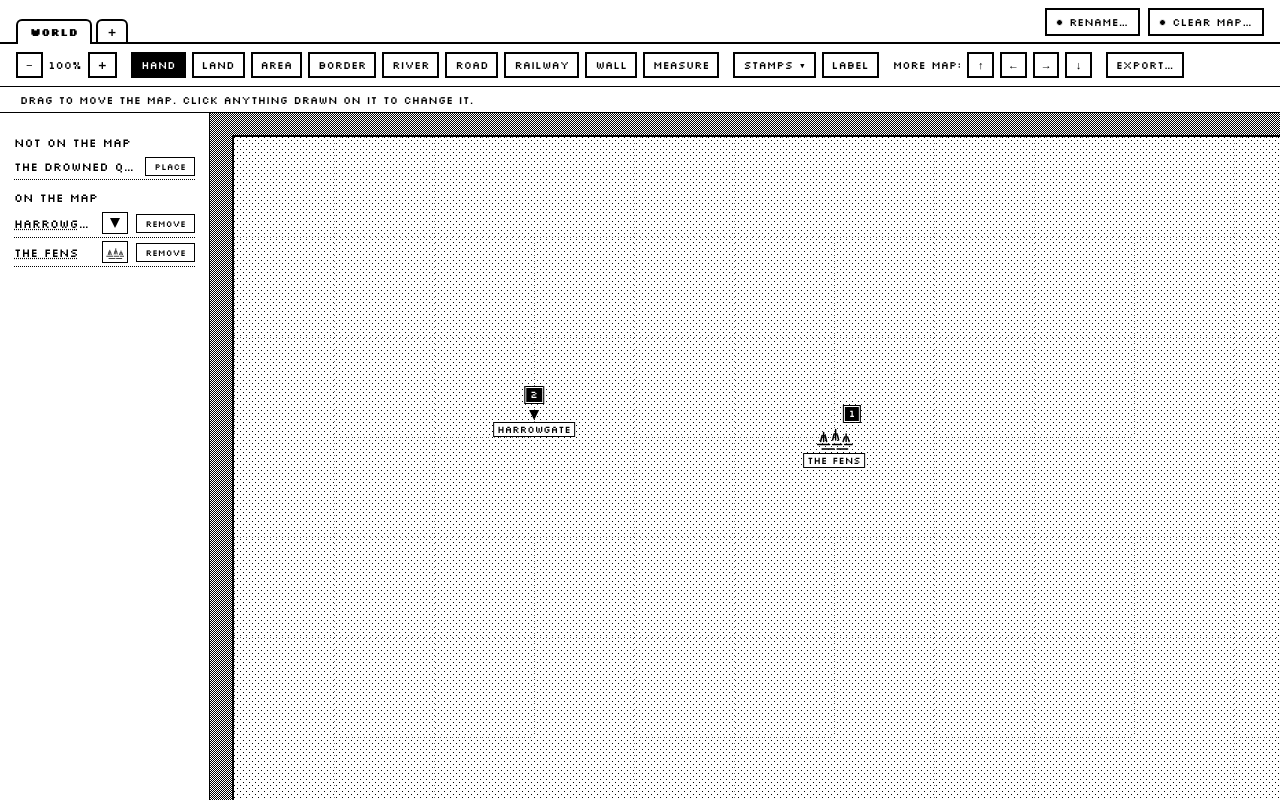
Test case: scenes on the map › closes its list on Esc without leaving the map, focus back on the marker
Check: the button with class "map-scene-count" showing "2" is shown, box top-left (525, 387), bottom-right (543, 403)
Click the button named "1 scene at The Fens" at (852, 414), box top-left (844, 406), bottom-right (860, 422)
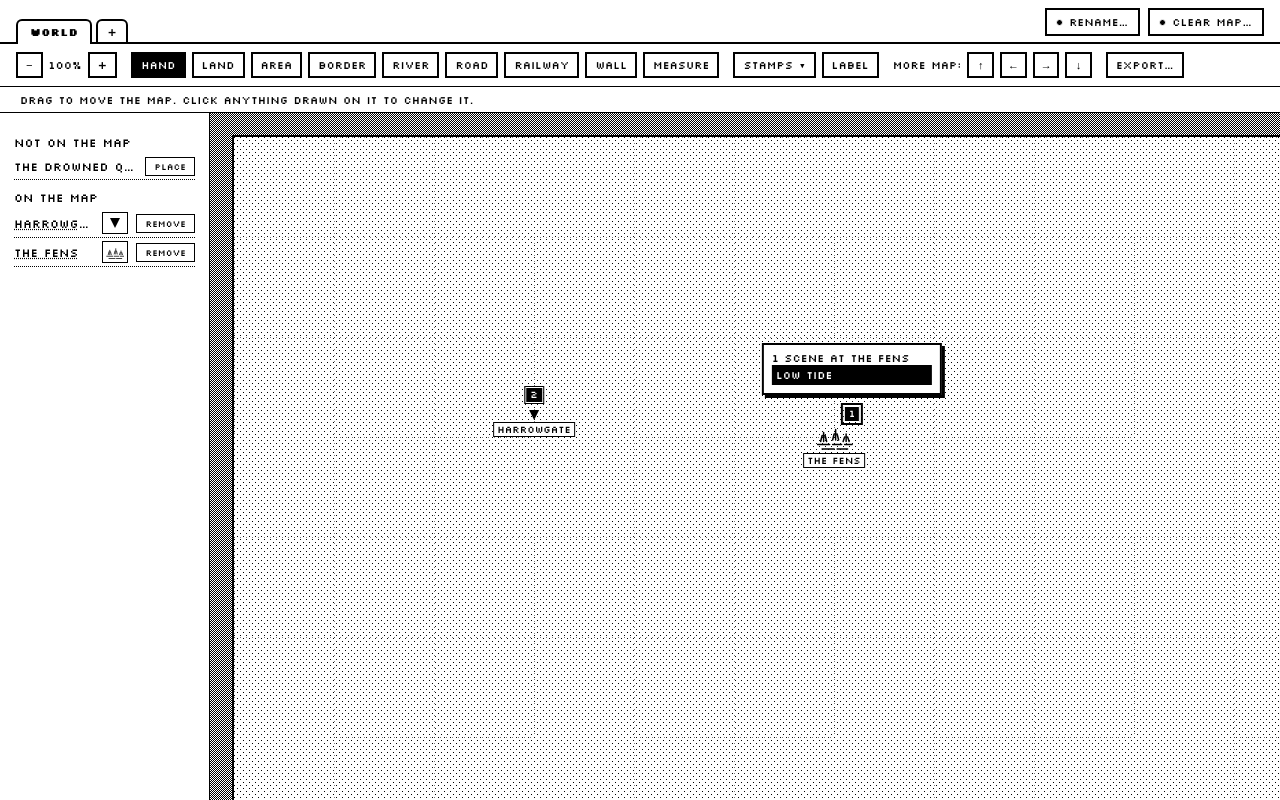
Press Escape in the button "Low Tide", box top-left (772, 365), bottom-right (932, 385)
Press Escape
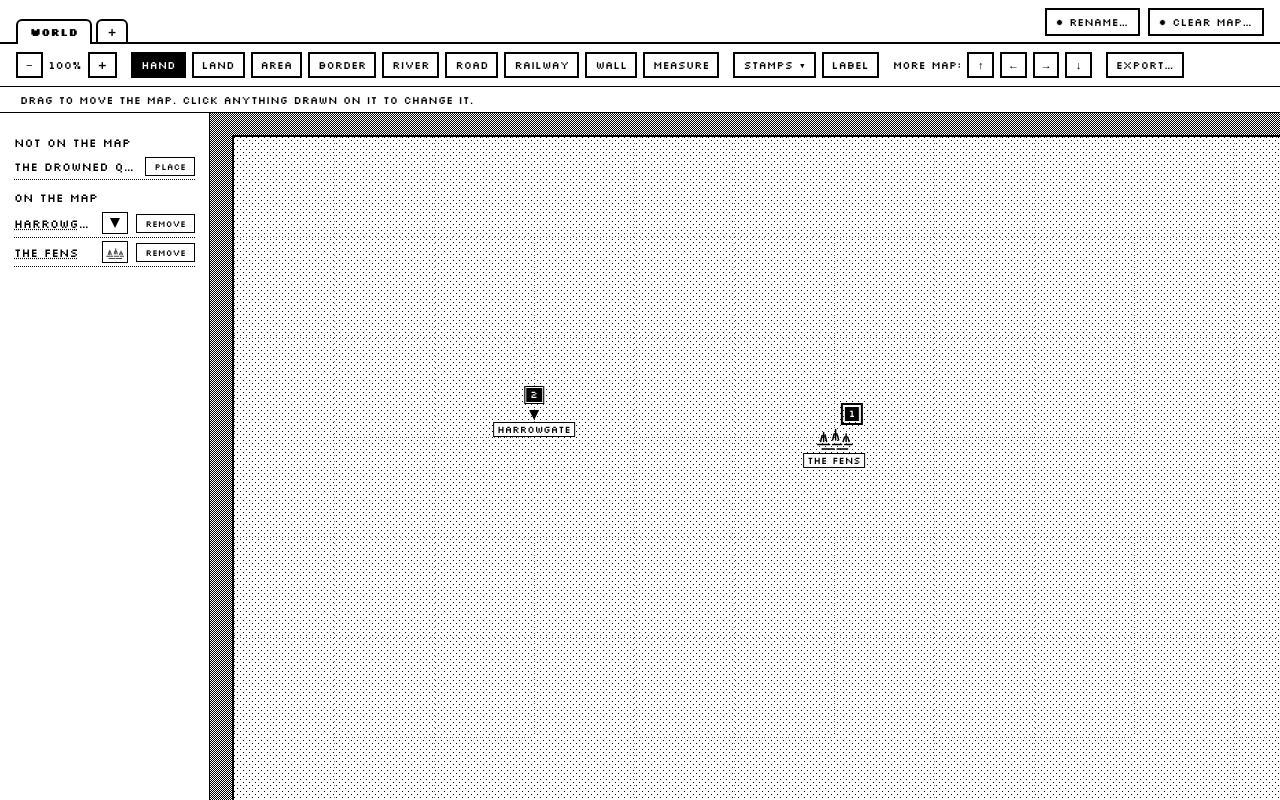
Check: the dialog is gone
